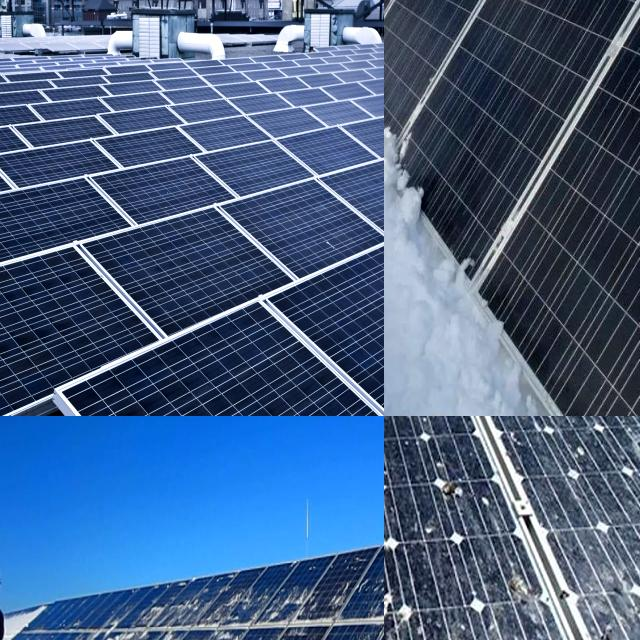bird: (384, 522, 409, 622), (384, 488, 414, 546), (505, 558, 537, 612), (426, 476, 474, 512), (384, 602, 421, 640), (585, 622, 630, 640)
crack: (56, 301, 368, 416), (80, 208, 288, 359), (0, 235, 169, 416), (249, 252, 384, 416), (221, 175, 381, 282), (0, 187, 148, 287), (91, 162, 247, 248), (0, 198, 73, 365), (272, 110, 383, 186), (196, 140, 314, 210), (319, 149, 384, 251), (0, 140, 126, 190), (92, 132, 223, 178), (87, 108, 202, 146), (0, 164, 84, 208), (166, 89, 243, 134), (342, 117, 384, 161), (193, 126, 194, 130)
panel: (454, 310, 591, 416), (390, 165, 476, 308), (384, 0, 451, 114), (138, 589, 254, 640), (281, 574, 358, 631), (384, 78, 432, 167), (254, 568, 278, 636), (61, 614, 116, 640), (371, 553, 384, 637)
